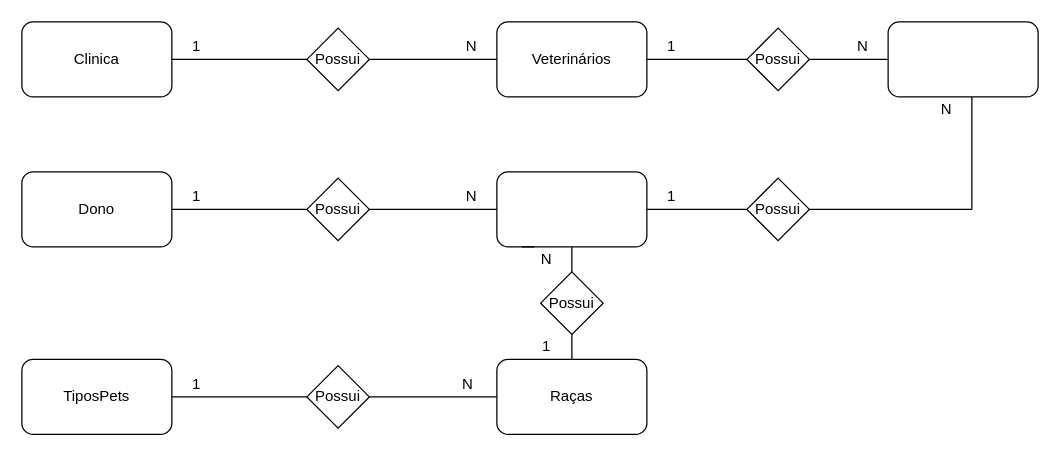
This 1060x456 diagram has some shape labels left out. The box of each missing label's shape, as (x1, y1, x2, y2) in pixels:
Atendimentos: (887, 21, 1038, 97)
Pets: (496, 171, 647, 247)
